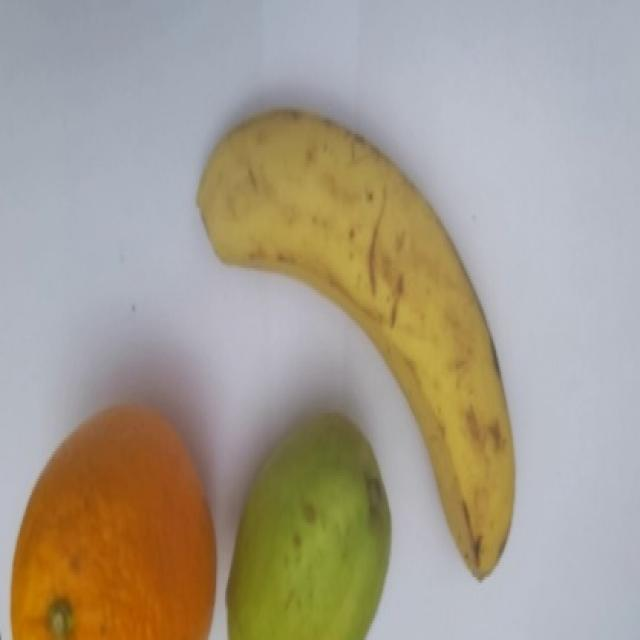Banana: (195, 106, 516, 581)
Orange: (9, 403, 217, 639)
